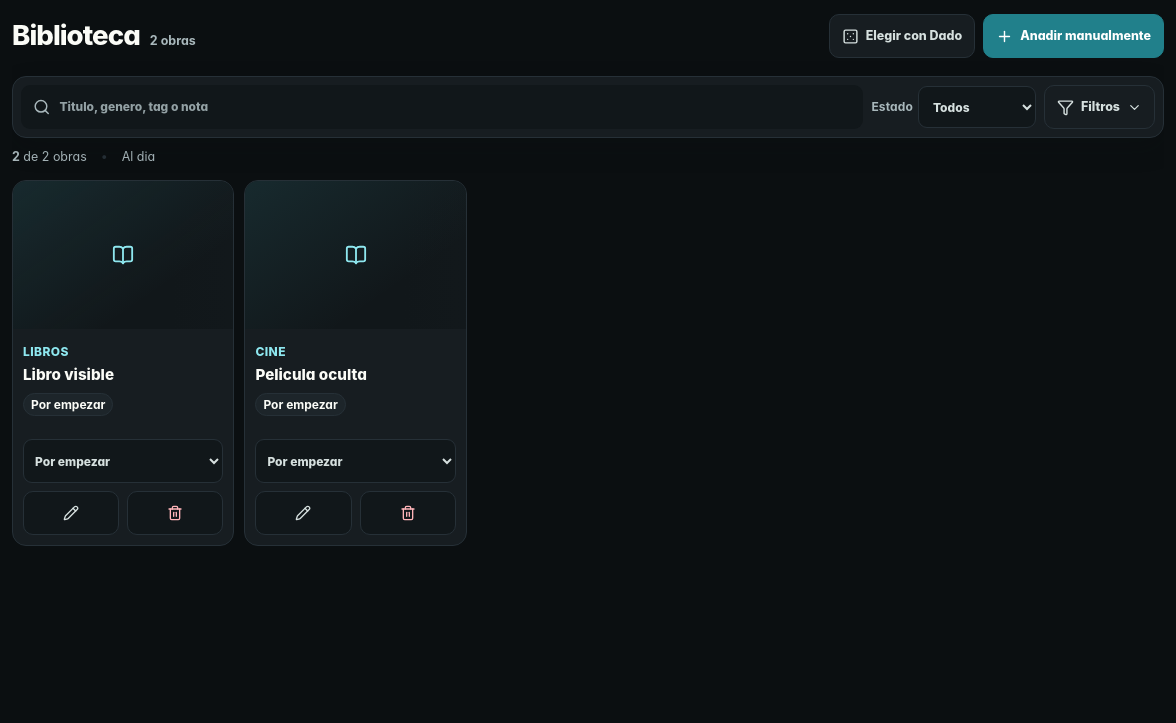
Test case: LibraryTab simplificada › muestra filtros activos como chips que se pueden retirar por separado
Click the button "Filtros" at (1099, 107), box x1=1044 y1=85 x2=1155 y2=129
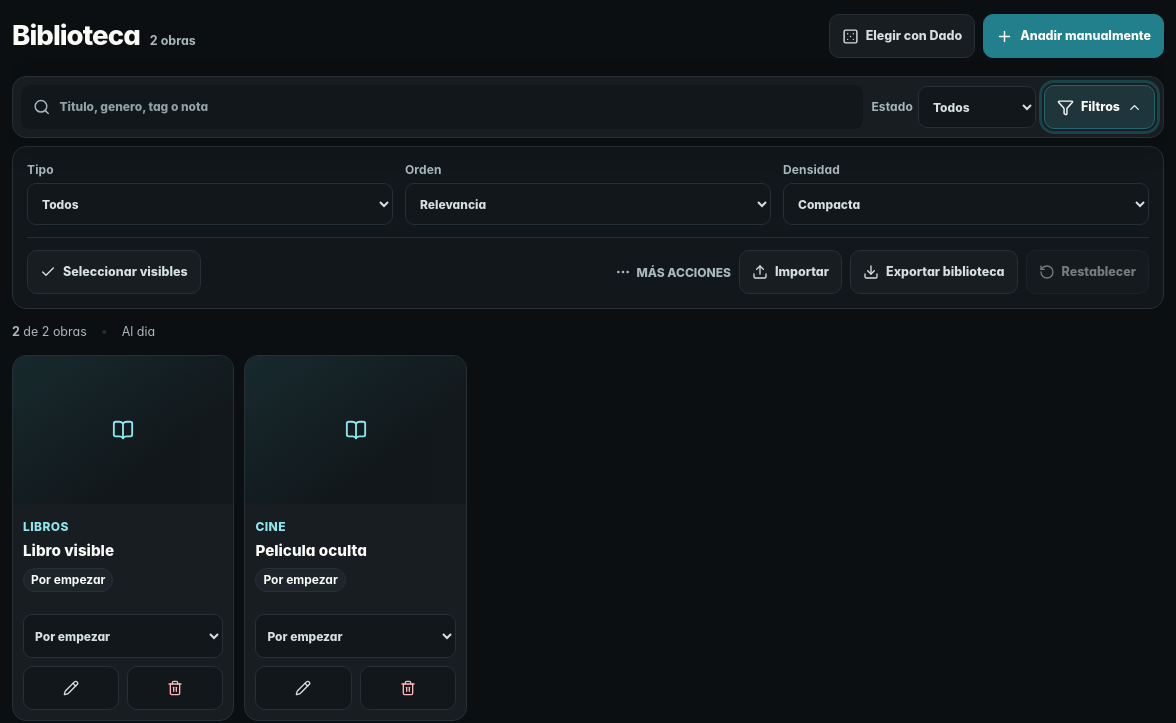
Select "Libros" in the dropdown named "Filtrar por tipo" at (210, 204), box x1=27 y1=183 x2=393 y2=225
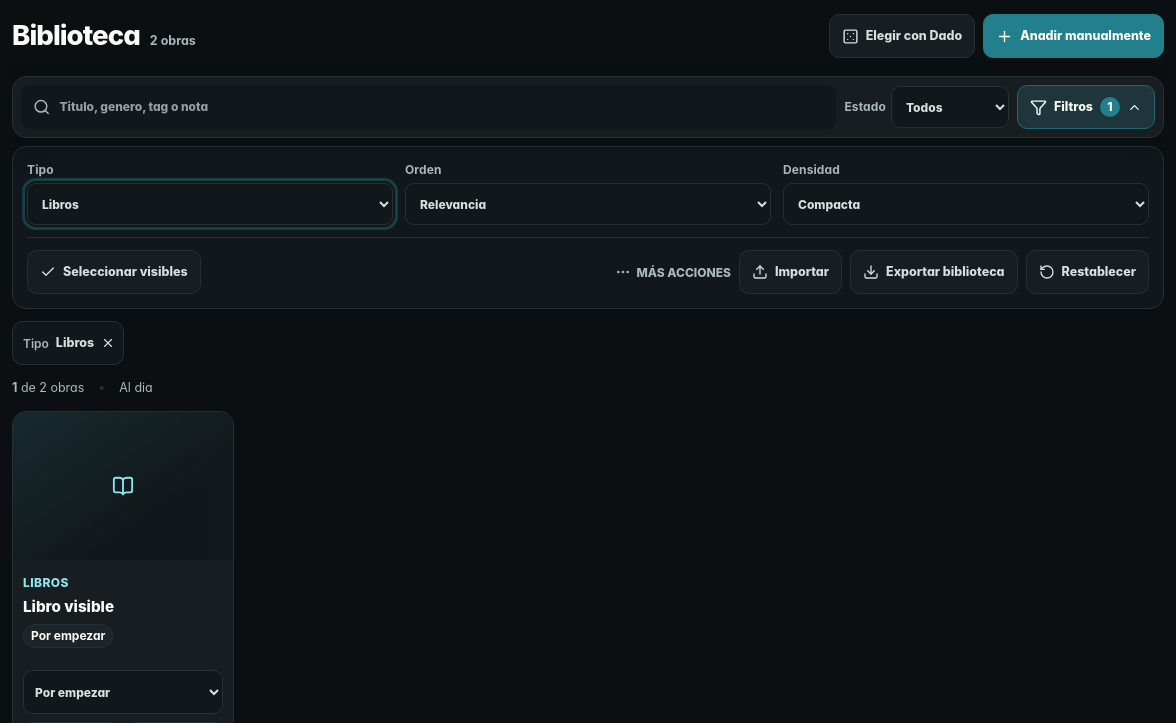
Result: the button with aria-label "Quitar filtro de tipo" is shown
Result: the heading "Pelicula oculta" is gone
Click the button with aria-label "Quitar filtro de tipo" at (68, 343), box x1=12 y1=321 x2=124 y2=365
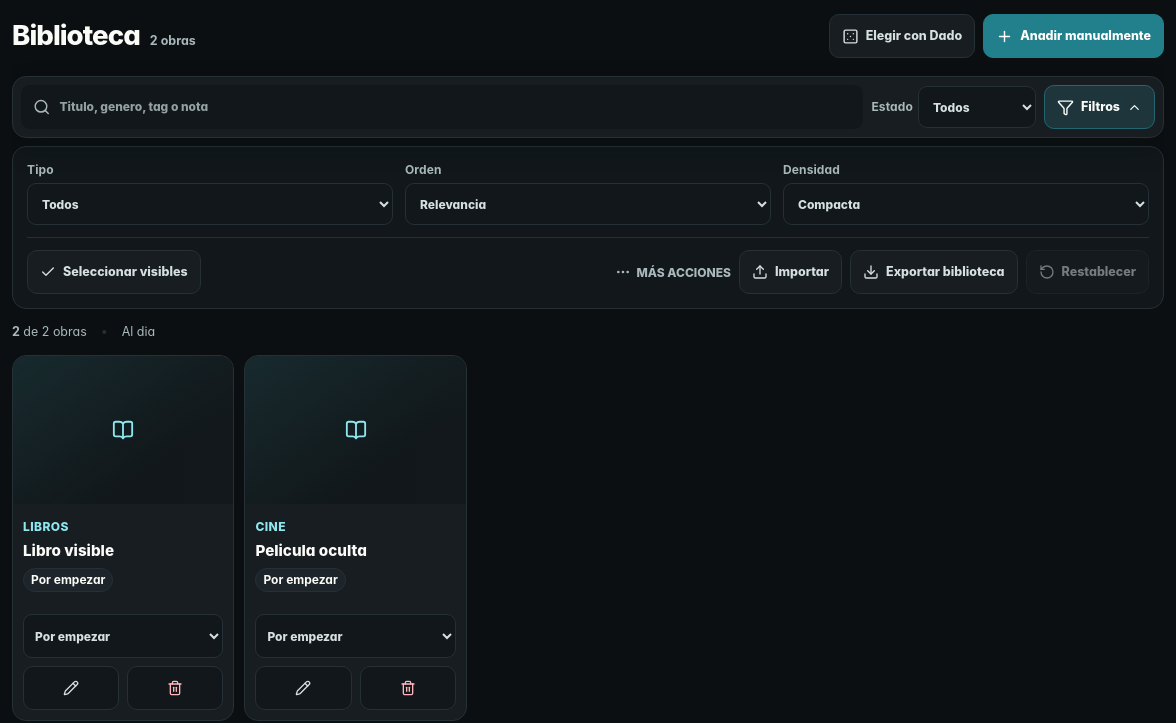
Result: the heading "Pelicula oculta" is shown at x1=255 y1=541 x2=367 y2=560
